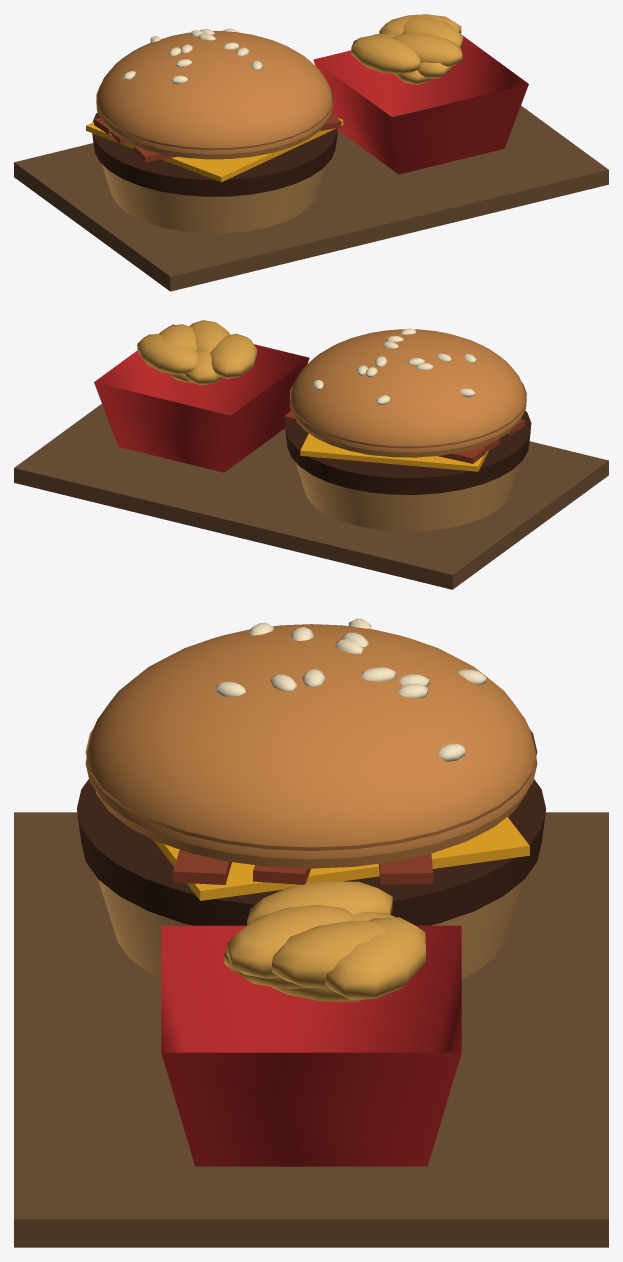
File: bombastyc.glb
The picture shows the model from 3 angles, top to bottom: view 1: azimuth 30°, elevation 25°; view 2: azimuth 150°, elevation 25°; view 3: azimuth 270°, elevation 25°; orthographic projection. The views are drawn at different scales.
Bounding box in the file's own units: 0.34 × 0.116 × 0.21.
